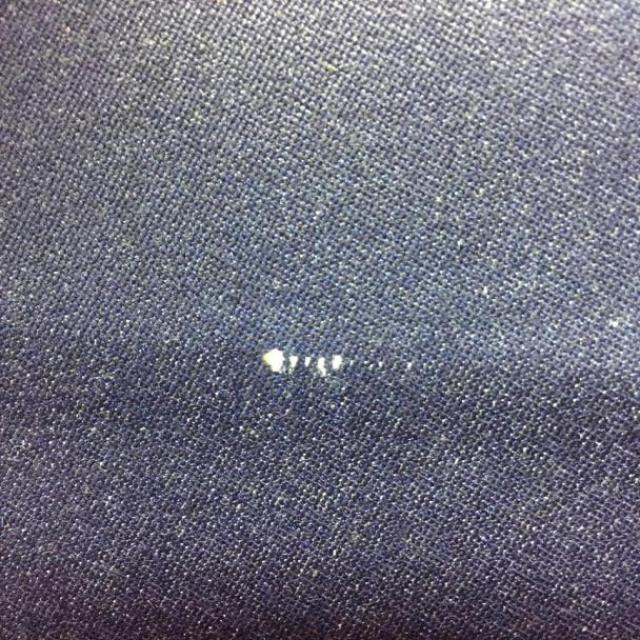Knot: (261, 348, 344, 377)
